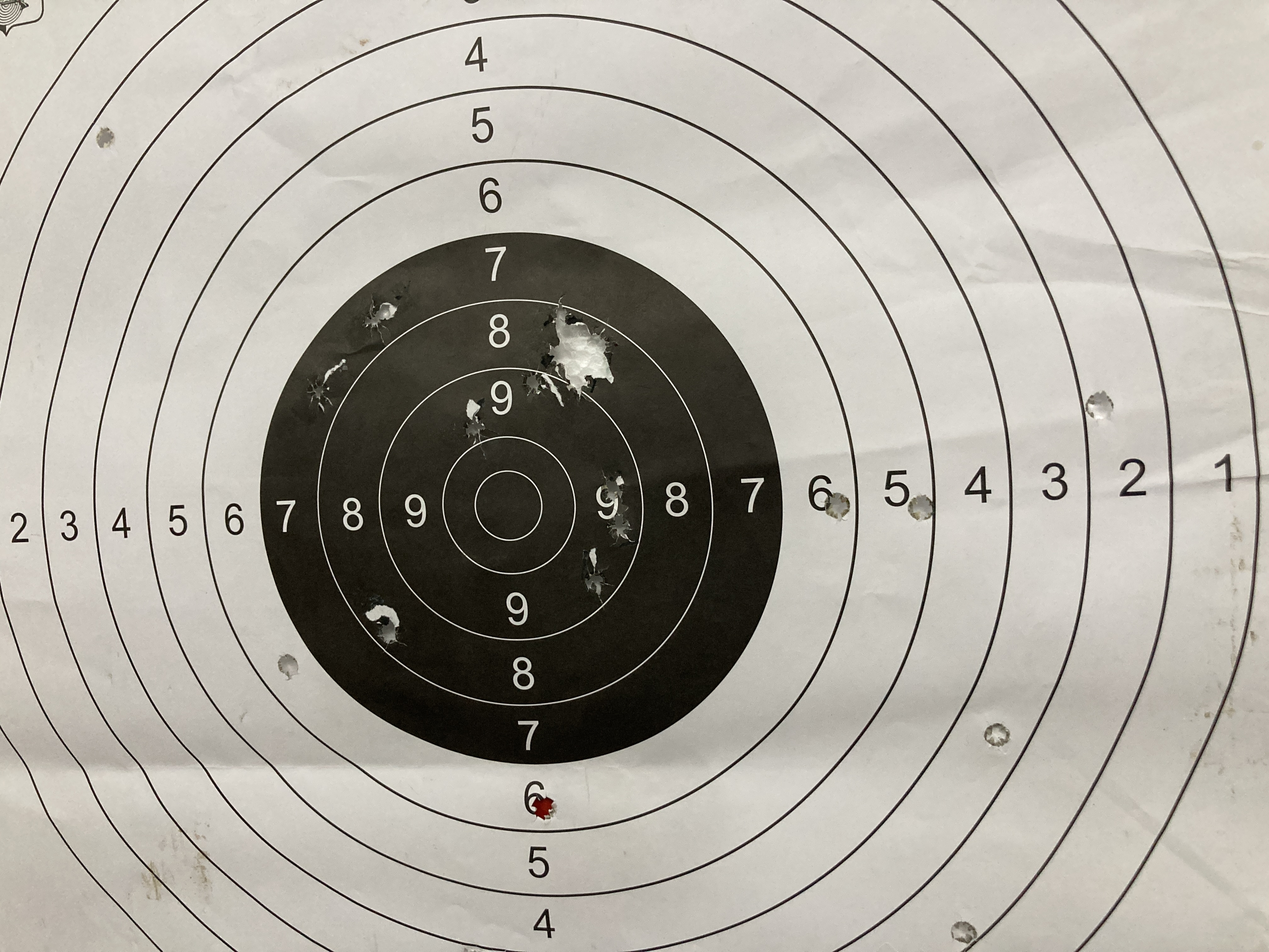hole: (543, 302, 626, 408), (459, 404, 509, 459), (571, 562, 620, 613), (355, 289, 406, 337), (362, 613, 415, 657), (289, 377, 349, 415), (507, 362, 558, 406), (600, 514, 651, 553), (1079, 382, 1121, 428), (593, 474, 637, 512), (816, 485, 860, 523), (979, 712, 1015, 756), (902, 494, 946, 527), (88, 121, 128, 157), (525, 792, 567, 823), (271, 653, 309, 686), (948, 917, 986, 948)
